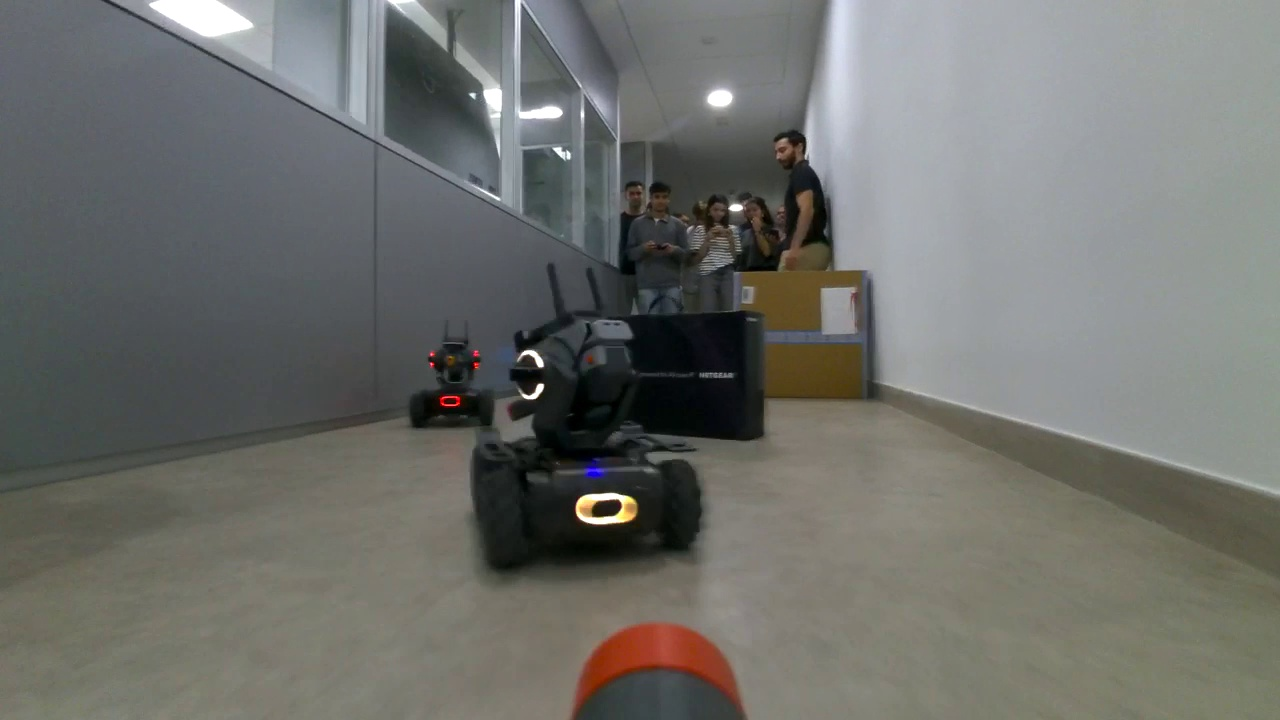robot: (468, 298, 705, 582), (406, 335, 492, 430)
